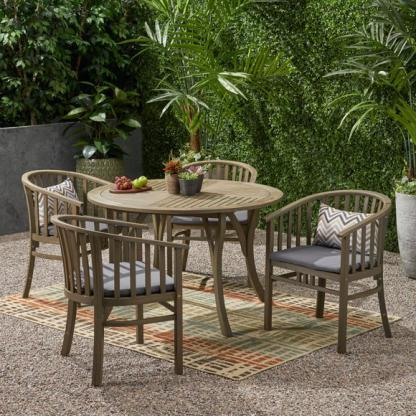table: (85, 175, 289, 338)
